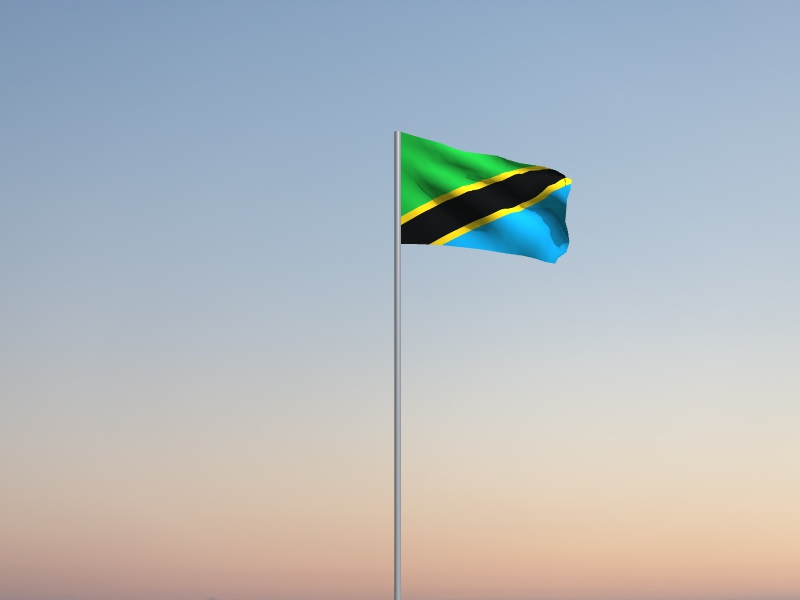tz: (401, 133, 574, 265)
